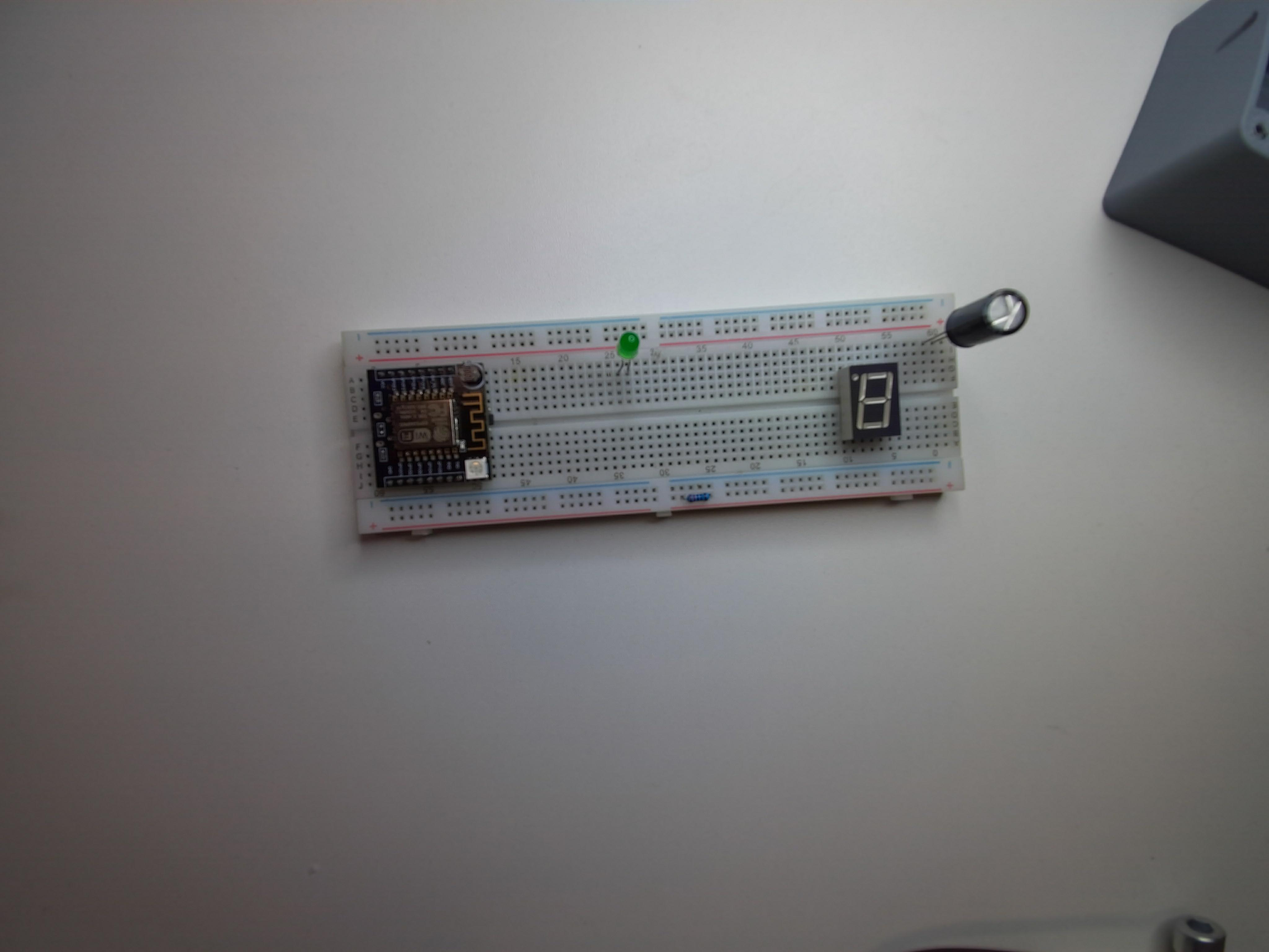base: (333, 286, 1020, 542)
capacitor: (945, 293, 1030, 347)
digit-board: (835, 361, 903, 448)
esp: (363, 360, 495, 491)
green-led: (619, 330, 640, 359)
resistor-small: (683, 492, 711, 508)
